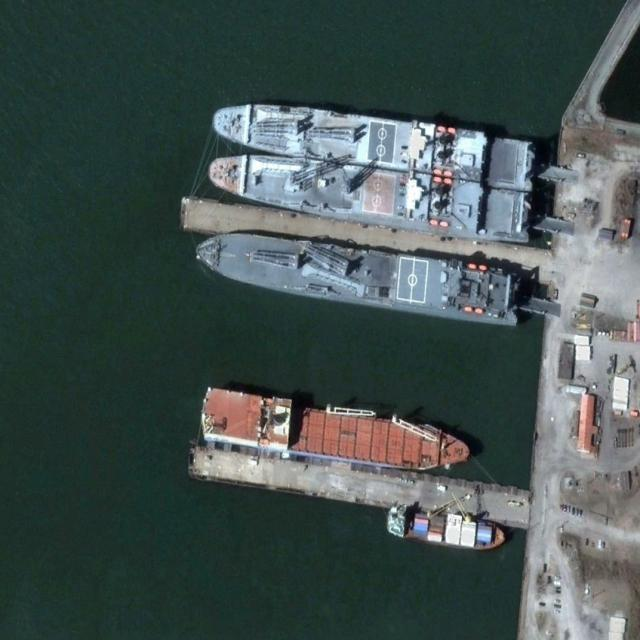Cargo: (193, 222, 523, 328), (204, 146, 533, 247), (209, 92, 539, 191), (196, 384, 473, 480), (384, 501, 506, 553)
